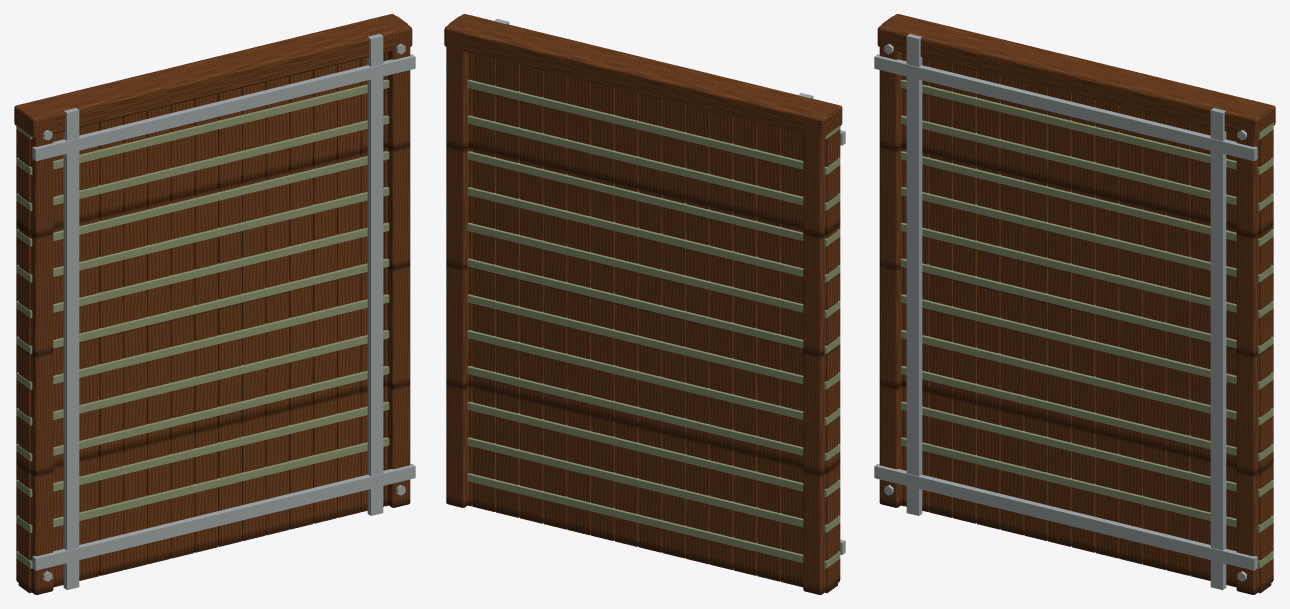
Rendered from prehistoric-survivor-settlement-woven-wall-repair-fram-6963ac0e__23226.glb.
3 views of the same model, side by side, from view 1: azimuth 30°, elevation 25°; view 2: azimuth 150°, elevation 25°; view 3: azimuth 330°, elevation 25° (orthographic).
Parts seen in each view (by area): view 1: woven-wall-repair-frame; view 2: woven-wall-repair-frame; view 3: woven-wall-repair-frame.
Part boxes in pixels (left/top/right/bottom): woven-wall-repair-frame: left=14, top=14, right=415, bottom=594; woven-wall-repair-frame: left=444, top=14, right=845, bottom=594; woven-wall-repair-frame: left=874, top=14, right=1275, bottom=594.
Bounding box in the file's own units: 2 × 2.4 × 0.205.
Materials: 3 (1 with a texture image).
